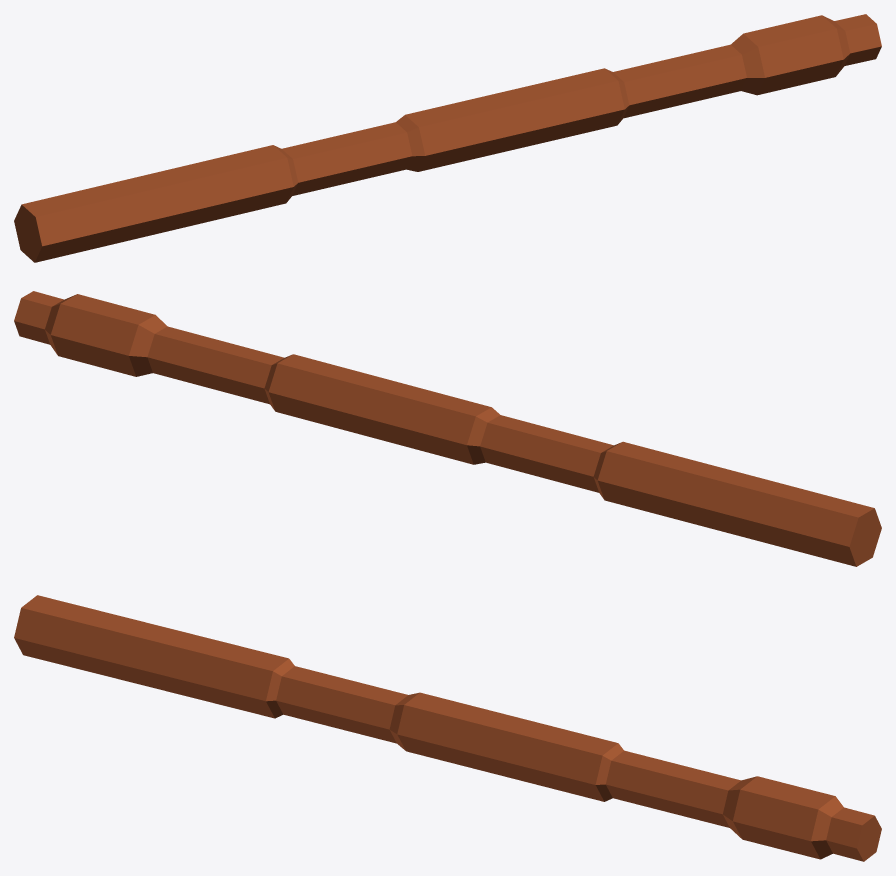
The model's file is masora.FBX.
3 views of the same model, one above another, from view 1: azimuth 30°, elevation 25°; view 2: azimuth 150°, elevation 25°; view 3: azimuth 330°, elevation 25° (orthographic). The views are drawn at different scales.
Visible parts, largest first — view 1: group_2125687258; view 2: group_2125687258; view 3: group_2125687258.
Boxes of the visible parts, left/top/right/bottom form: group_2125687258: left=14, top=14, right=881, bottom=262; group_2125687258: left=14, top=291, right=881, bottom=566; group_2125687258: left=14, top=595, right=881, bottom=861.
Bounding box in the file's own units: 802 × 50.5 × 73.04.
